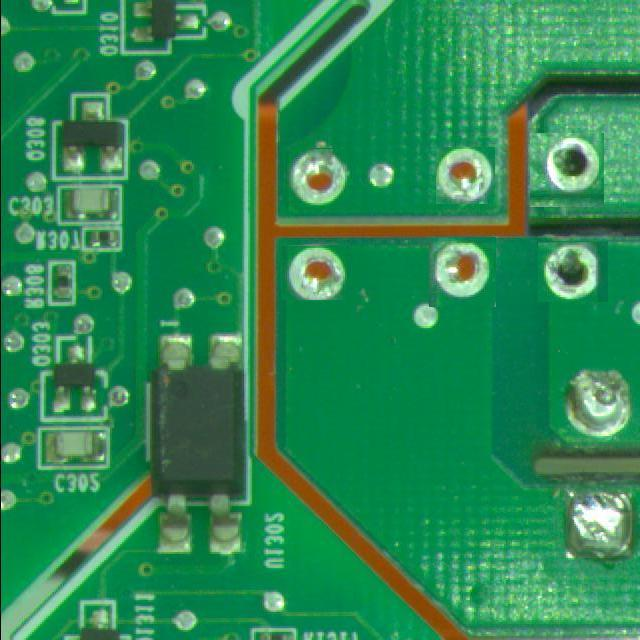lack_of_part: (530, 133, 605, 207), (428, 237, 497, 306), (537, 241, 608, 302), (284, 148, 351, 209), (281, 245, 347, 300), (435, 146, 495, 204)
